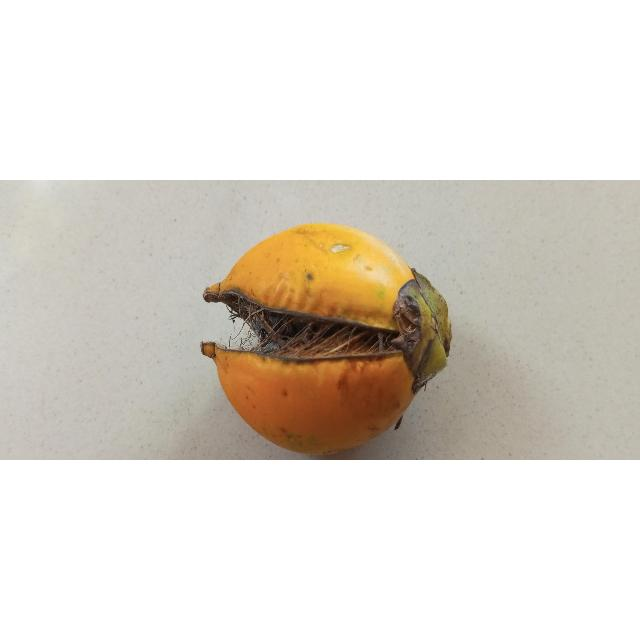damaged: (201, 224, 452, 455)
